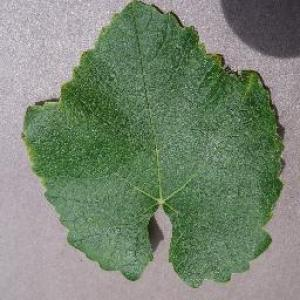Folha: (20, 0, 285, 288)
